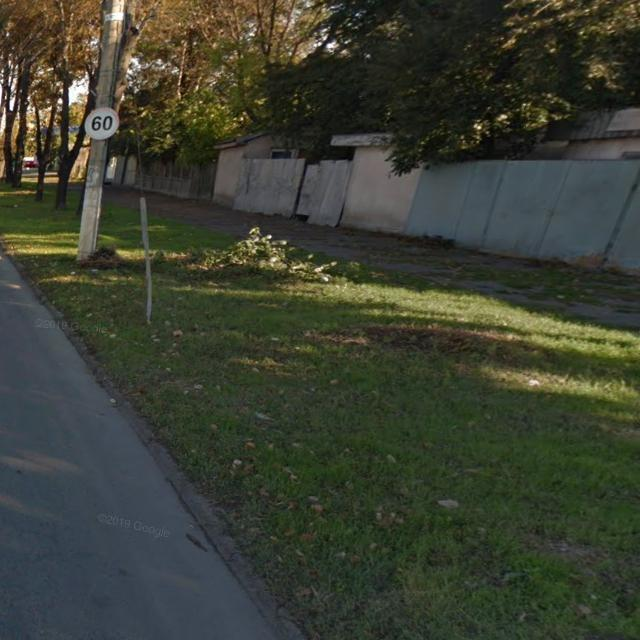forb_speed_over_60: (85, 108, 119, 140)
